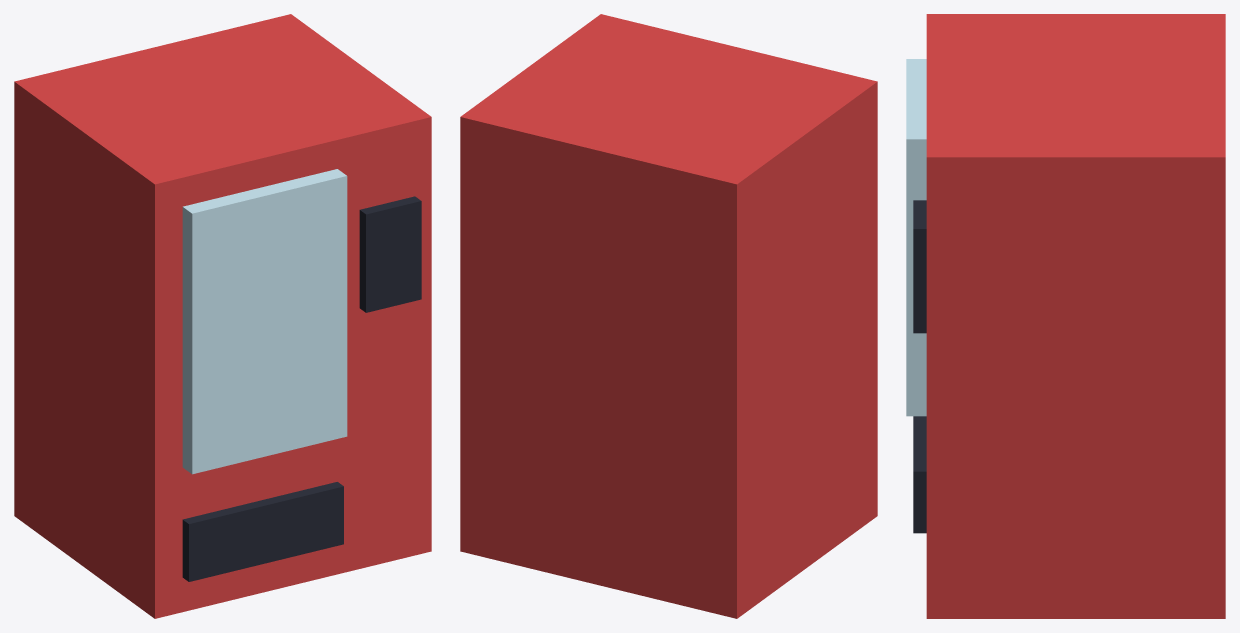
Rendered from vending-machine.glb.
3 views of the same model, side by side, from view 1: azimuth 30°, elevation 25°; view 2: azimuth 150°, elevation 25°; view 3: azimuth 270°, elevation 25° (orthographic). The views are drawn at different scales.
Parts seen in each view (by area): view 1: vending-machine; view 2: vending-machine; view 3: vending-machine.
Part boxes in pixels (x1,y1,x2,y2): vending-machine: [14, 14, 431, 618]; vending-machine: [460, 14, 877, 618]; vending-machine: [906, 14, 1225, 618].
Bounding box in the file's own units: 0.5 × 0.75 × 0.47.
Materials: 1 (1 with a texture image).
